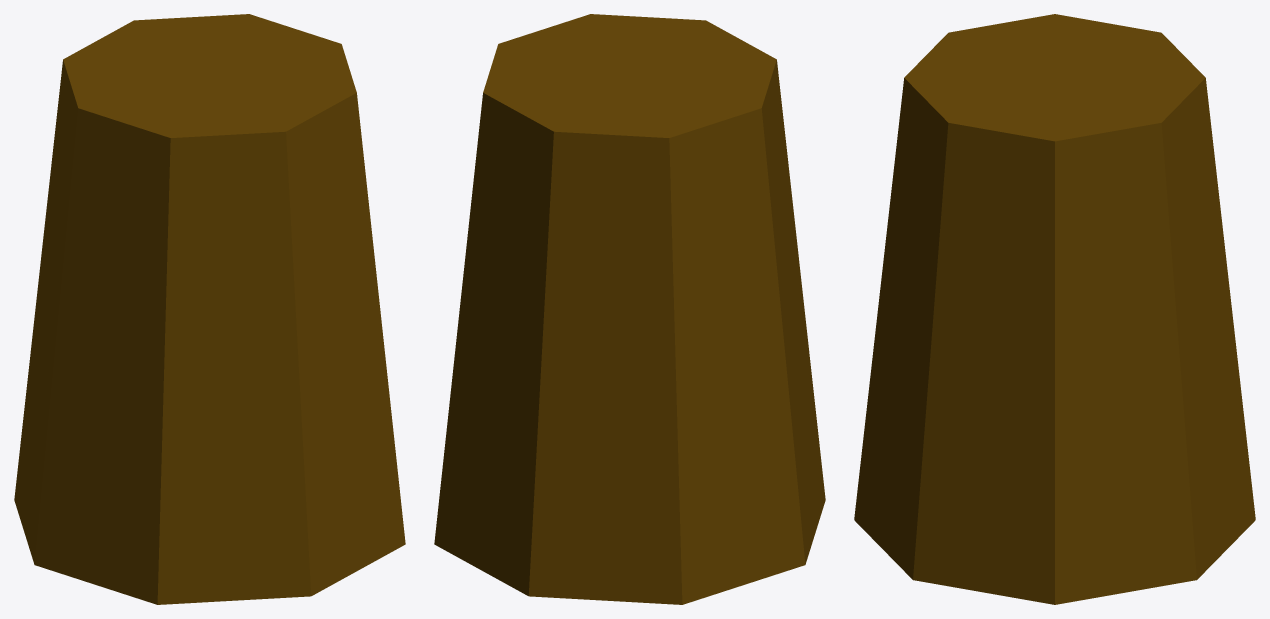
Rendered from stump.glb.
3 renders of one model, left to right at view 1: azimuth 30°, elevation 25°; view 2: azimuth 150°, elevation 25°; view 3: azimuth 270°, elevation 25°, orthographic.
Visible parts, largest first — view 1: stump; view 2: stump; view 3: stump.
Part boxes in pixels (<box>): stump: <box>14,14,405,604</box>; stump: <box>434,14,825,604</box>; stump: <box>854,14,1255,604</box>.
Size of the model in its own units: 0.655 by 0.7958 by 0.655.
